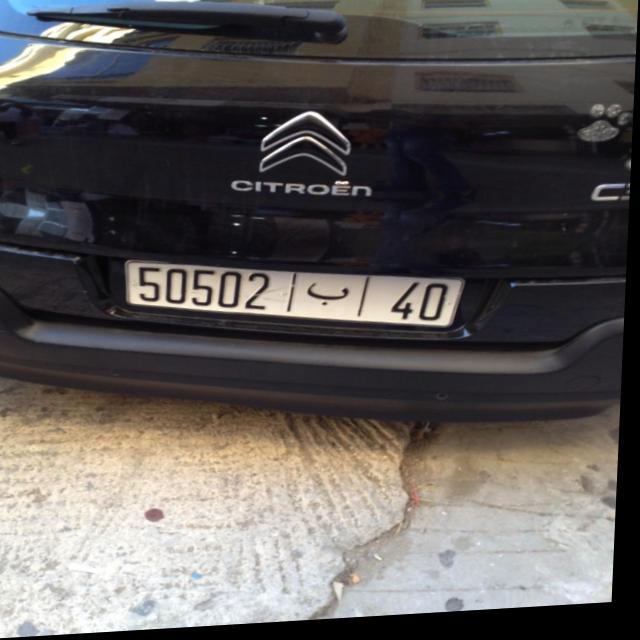License-Plate: (127, 262, 467, 334)
